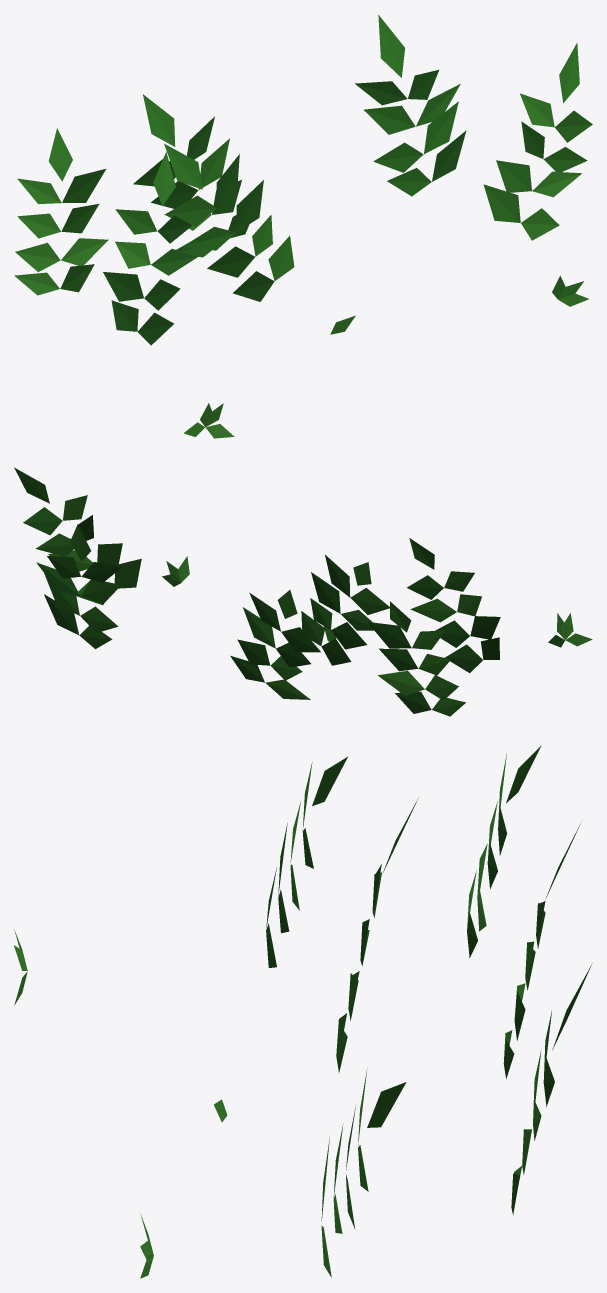
3 renders of one model, top to bottom at view 1: azimuth 30°, elevation 25°; view 2: azimuth 150°, elevation 25°; view 3: azimuth 270°, elevation 25°, orthographic. The views are drawn at different scales.
Parts seen in each view (by area): view 1: r16c4_l10; view 2: r16c4_l10; view 3: r16c4_l10.
Boxes of the visible parts, <box> form: r16c4_l10: <box>14,15,592,438</box>; r16c4_l10: <box>14,467,592,716</box>; r16c4_l10: <box>14,745,592,1278</box>.
Bounding box in the file's own units: 1.54 × 0.53 × 0.9622.
